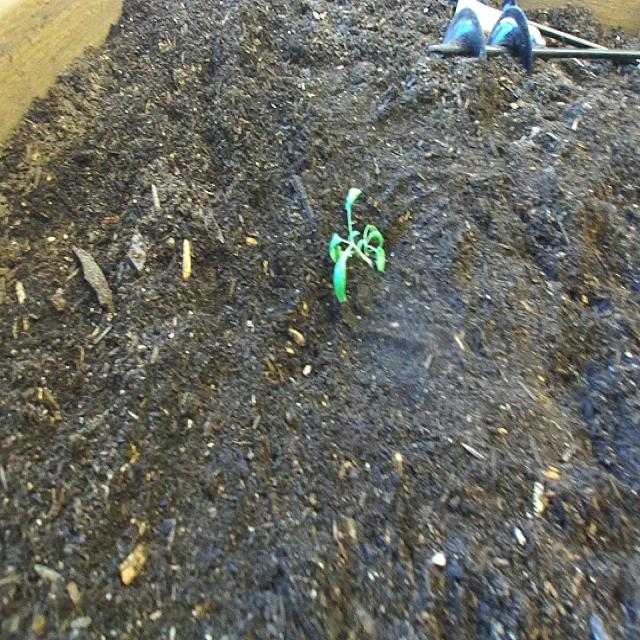Healthy: (322, 173, 395, 316)
